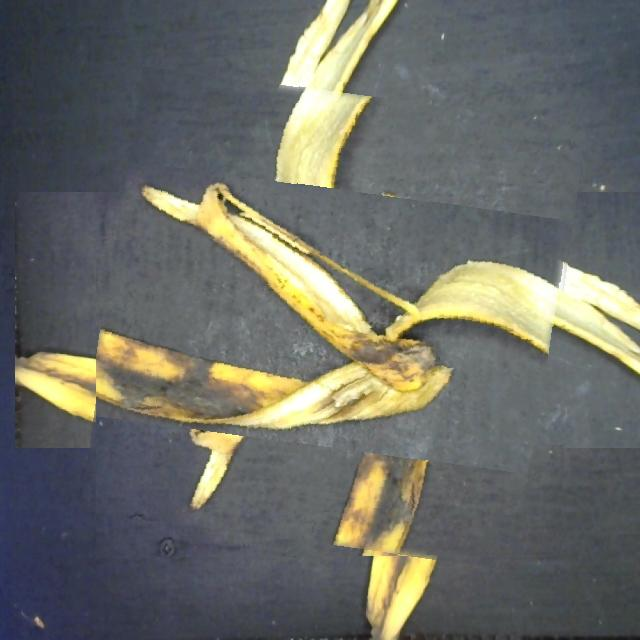biodegradable: (96, 82, 572, 558)
